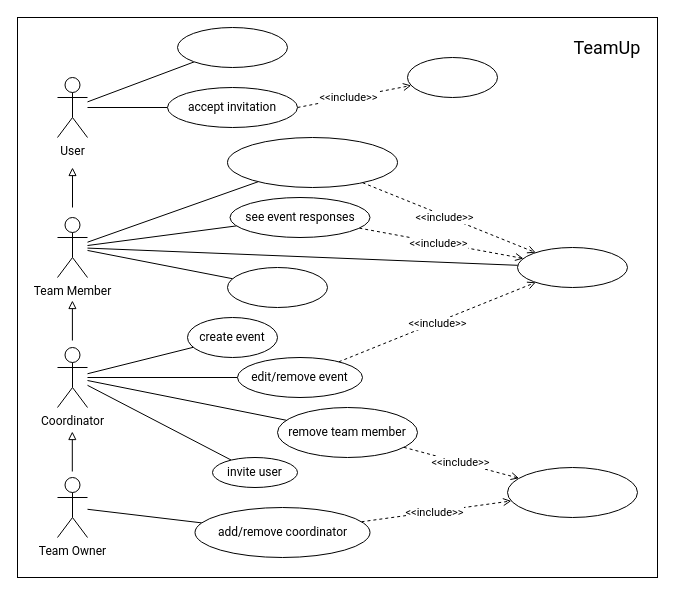
The diagram is 675 pixels wide and 595 high, and some of its shapes have lost their labels. Each missing label, with the centre of its shape:
"create team" belongs at (x=232, y=47).
"leave team" belongs at (x=277, y=287).
"list invitations" belongs at (x=452, y=77).
"list team events" belongs at (x=572, y=267).
"list team members" belongs at (x=572, y=492).
"respond to event/change response" belongs at (x=312, y=162).
